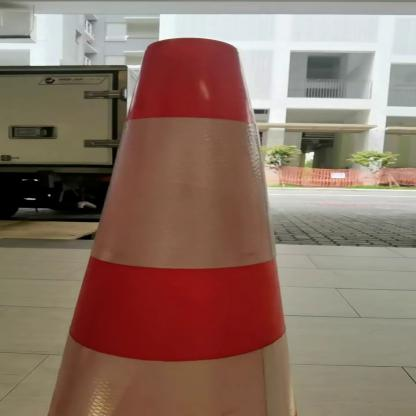cone: (36, 32, 326, 415)
